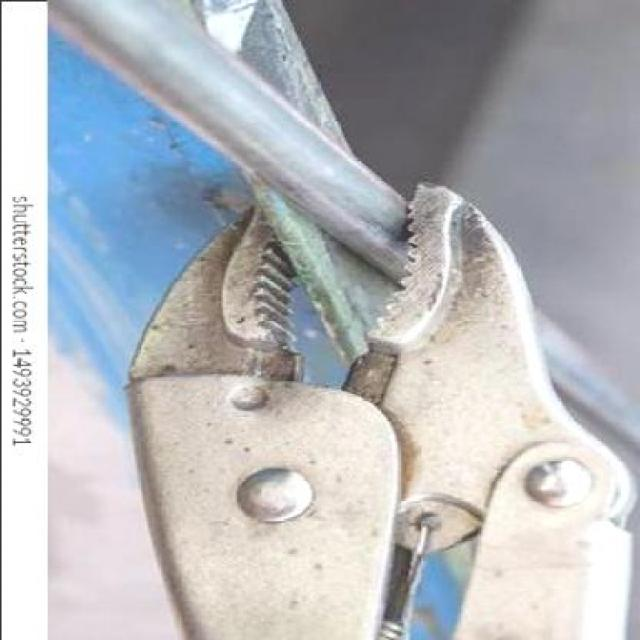Pliers: (125, 174, 623, 638)
